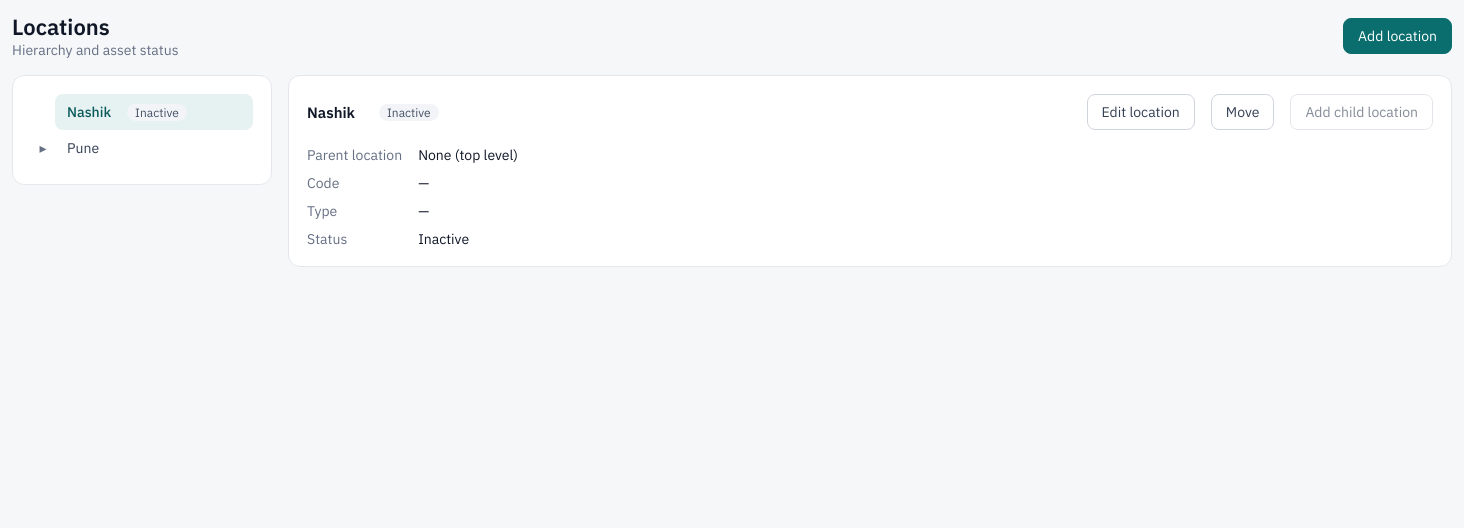
Scenario: a cycle the database refuses shows its own message
The width and height of the screenshot is (1464, 528).
Click the button "Move": [1243, 112] box [1211,94,1274,130]
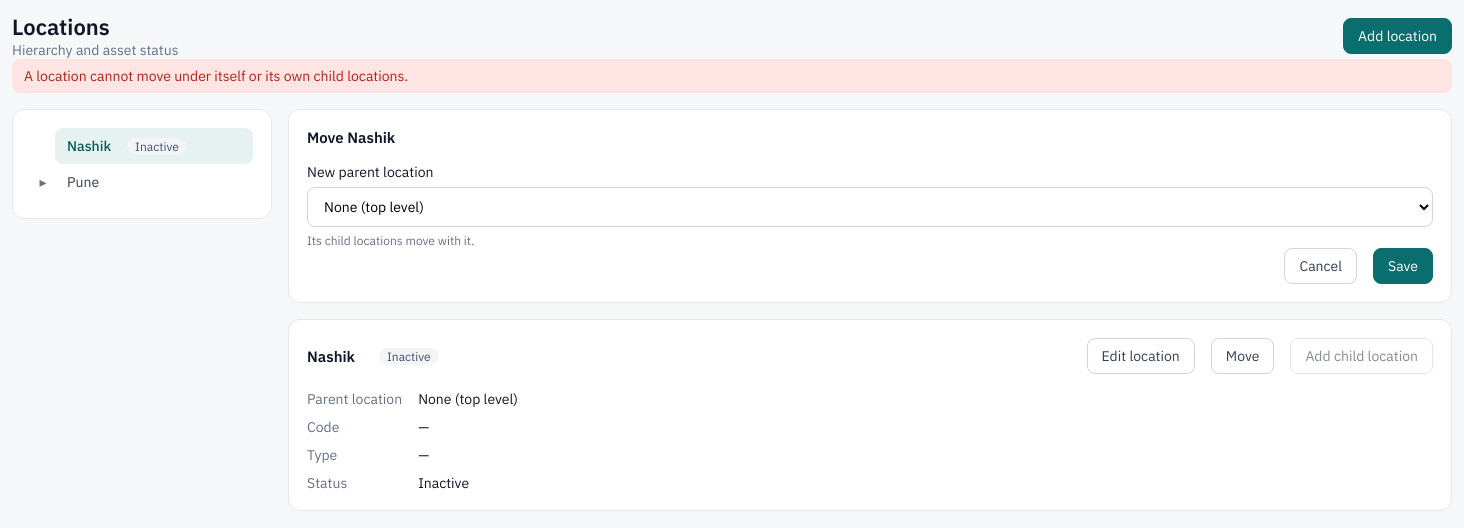
Expected: the message "A location cannot move under itself or its own child locations." is shown, [12,59,1452,93]
